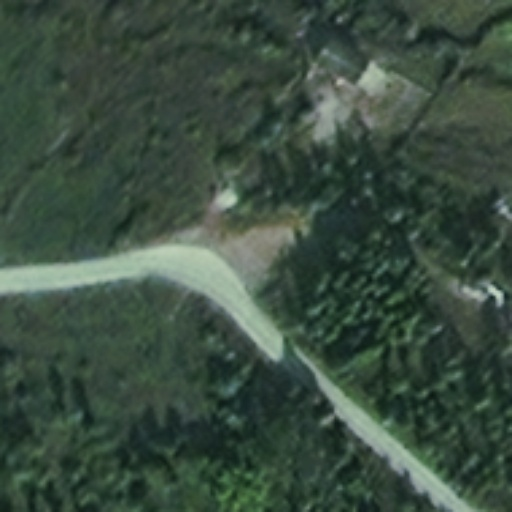landslide: (187, 193, 309, 294)
